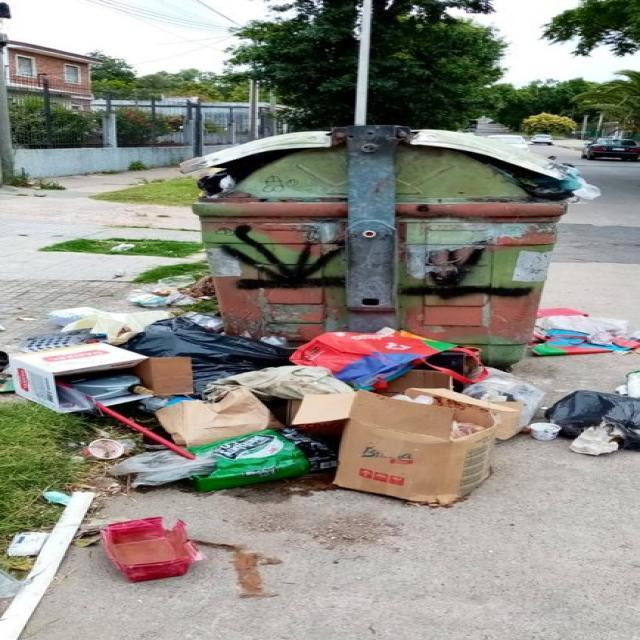high trash: (10, 309, 640, 504)
less trash: (102, 518, 199, 581), (531, 308, 640, 356), (129, 275, 214, 308), (8, 532, 49, 556)
